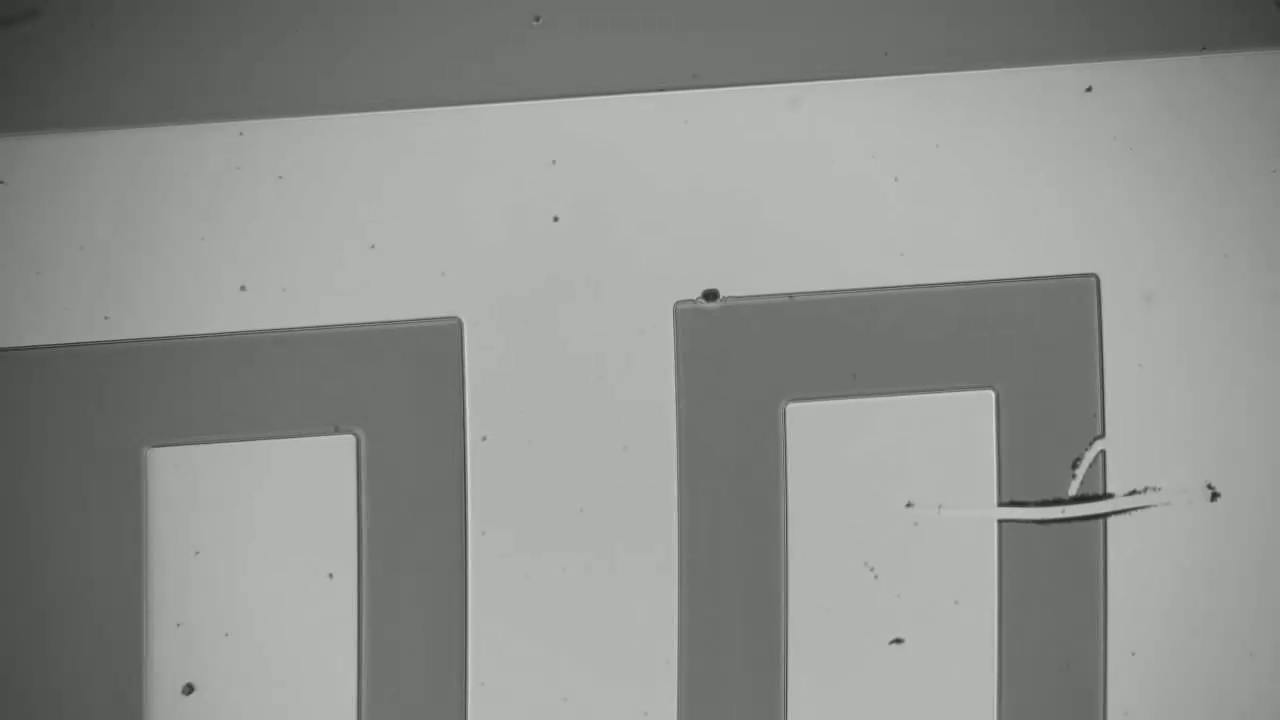Short_circuit: (969, 480, 1128, 545)
